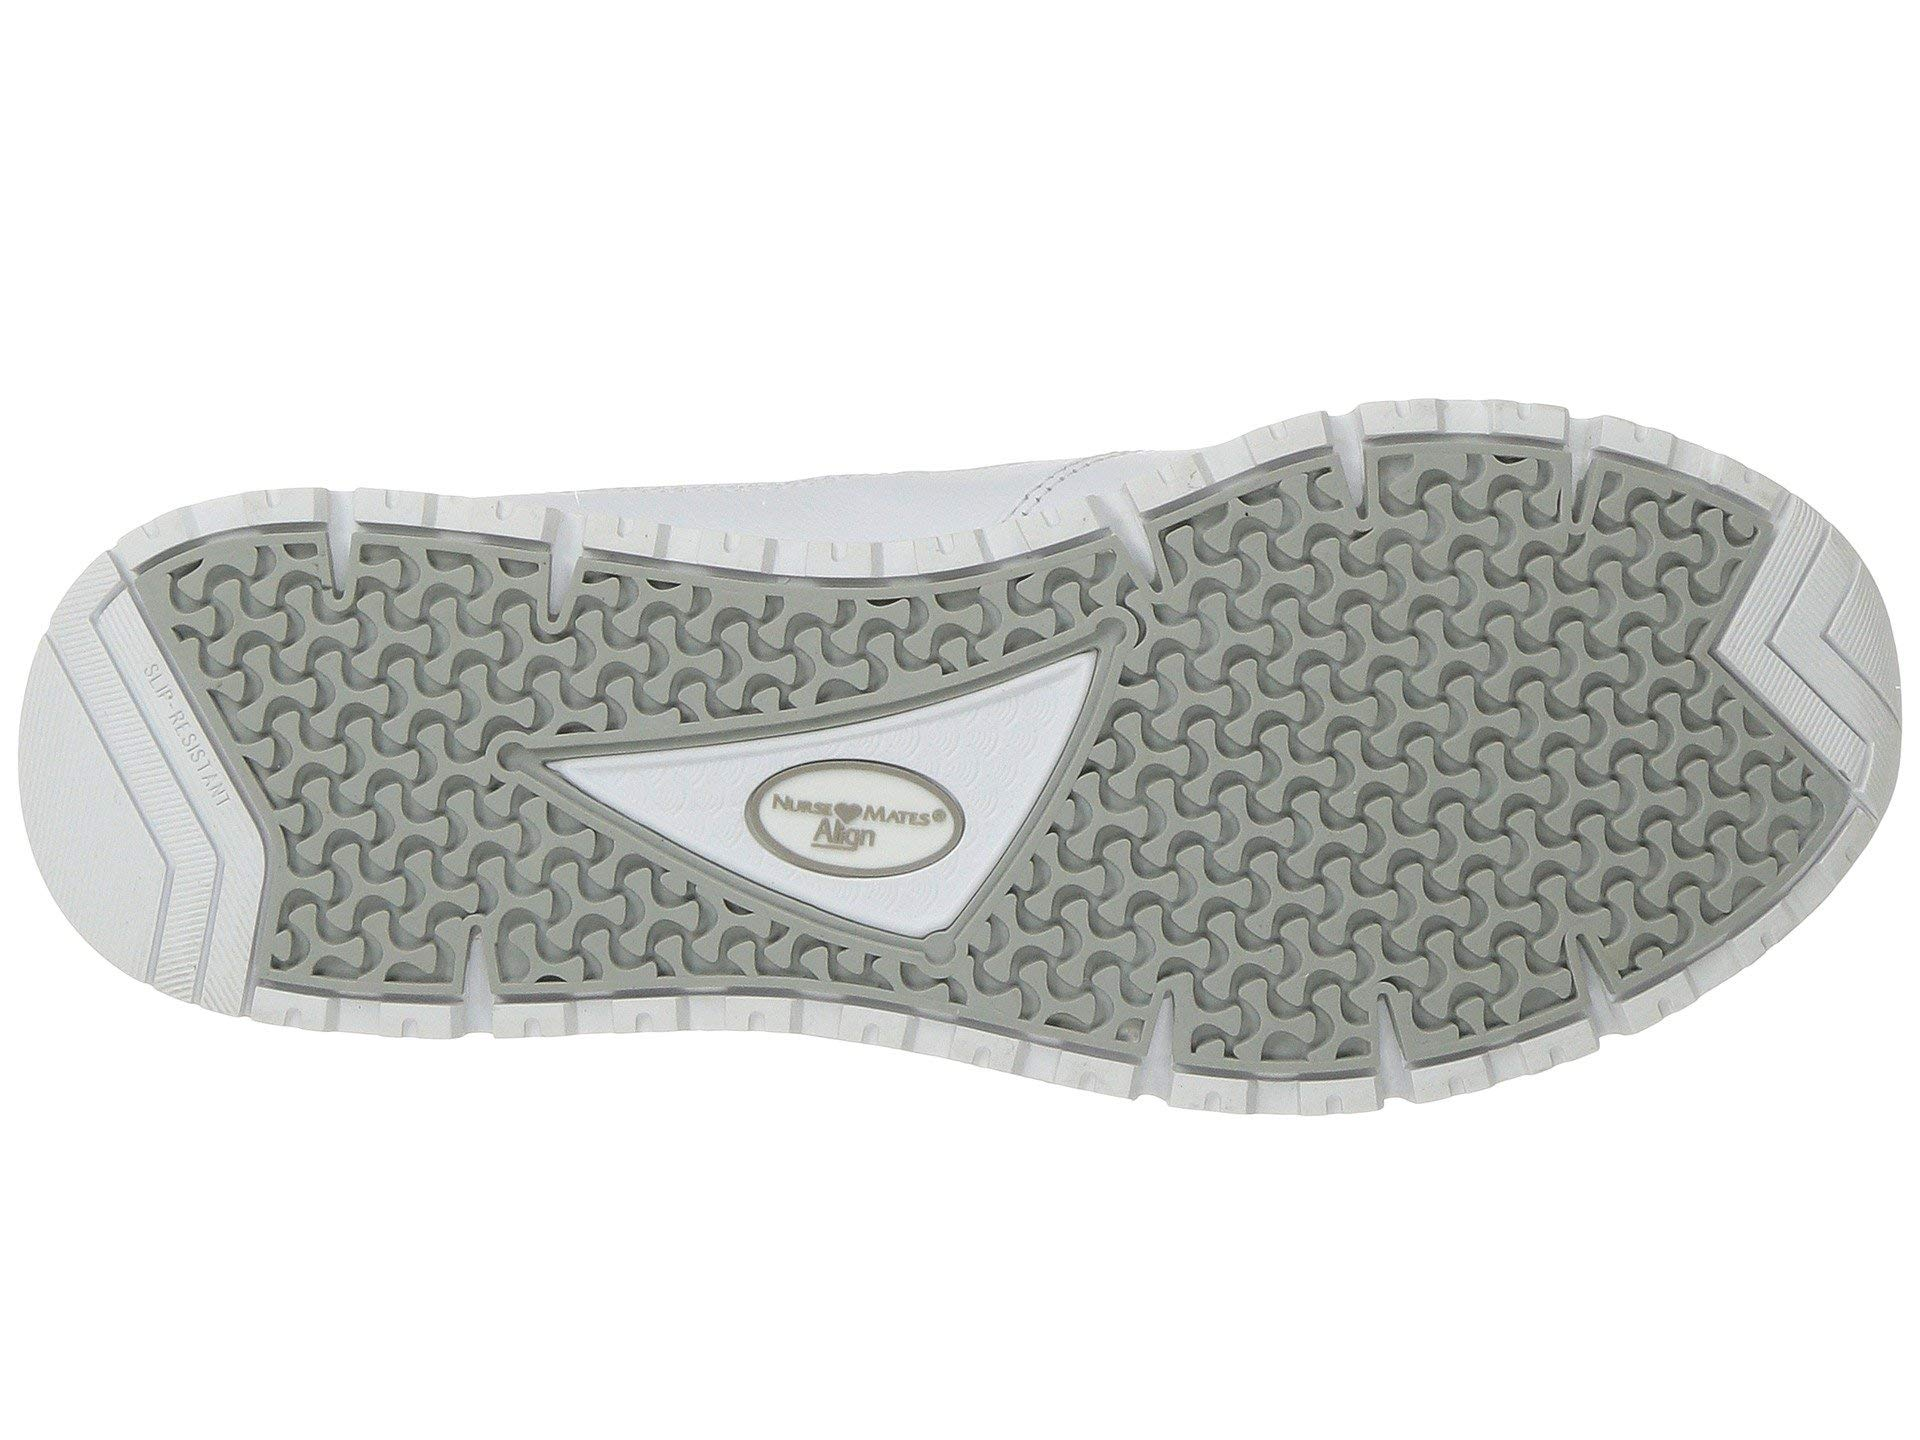chevron: (36, 604, 274, 1000), (1764, 528, 1903, 743)
star: (1232, 529, 1661, 924), (36, 604, 274, 1000)
text: (36, 604, 274, 1000)
